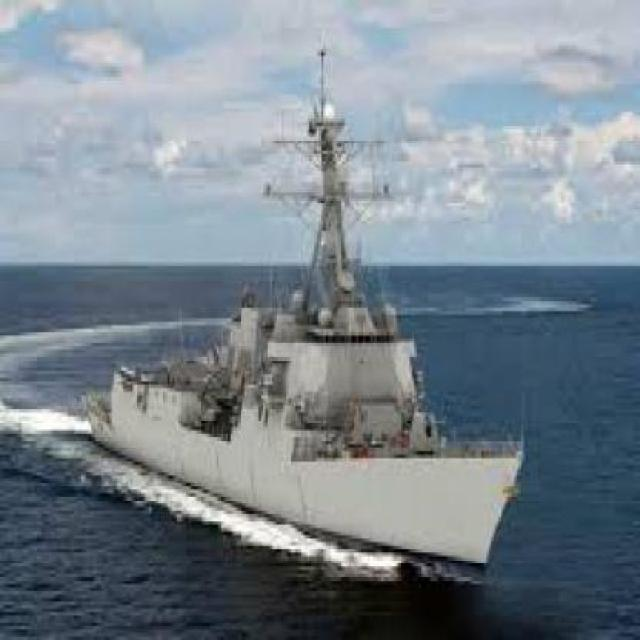warship2: (83, 50, 523, 596)
